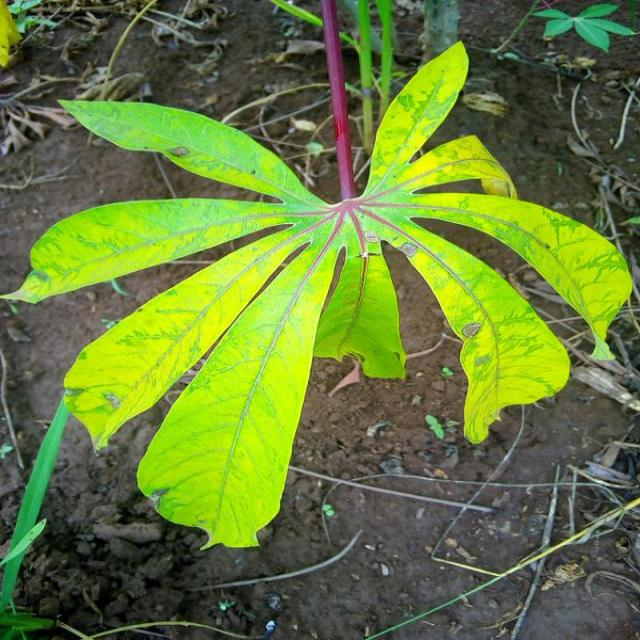cassava leaf: (3, 24, 633, 552)
